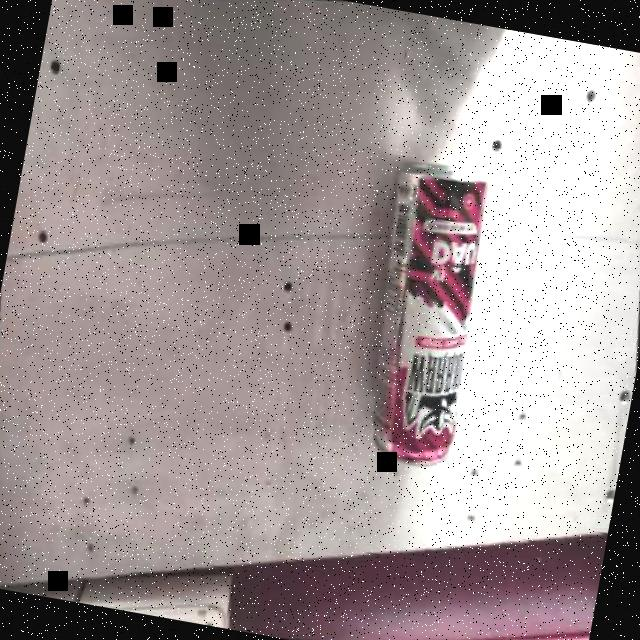can: (338, 152, 504, 472)
